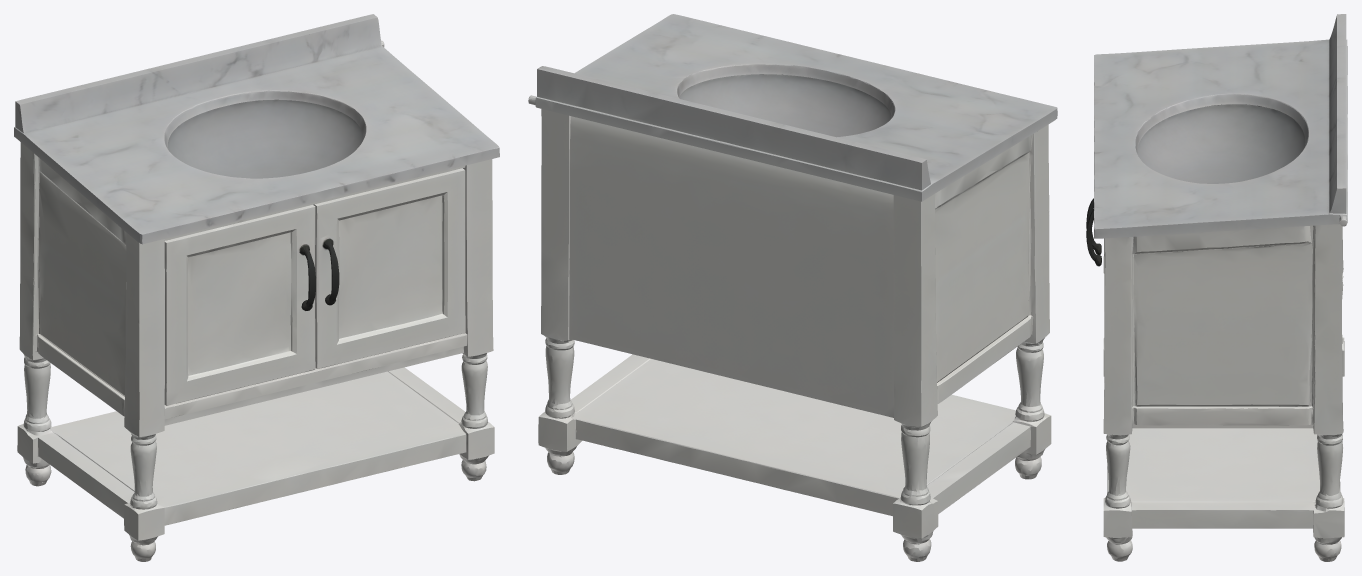
File: cabinet.glb
3 views of the same model, side by side, from view 1: azimuth 30°, elevation 25°; view 2: azimuth 150°, elevation 25°; view 3: azimuth 270°, elevation 25° (orthographic). The views are drawn at different scales.
Visible parts, largest first — view 1: model; view 2: model; view 3: model.
Part boxes in pixels (box(x1,y1,x2,y2)): model: box(14, 14, 499, 561); model: box(528, 14, 1057, 561); model: box(1086, 14, 1347, 561).
Bounding box in the file's own units: 1.88 × 1.85 × 1.16.
Materials: 1 (1 with a texture image).
